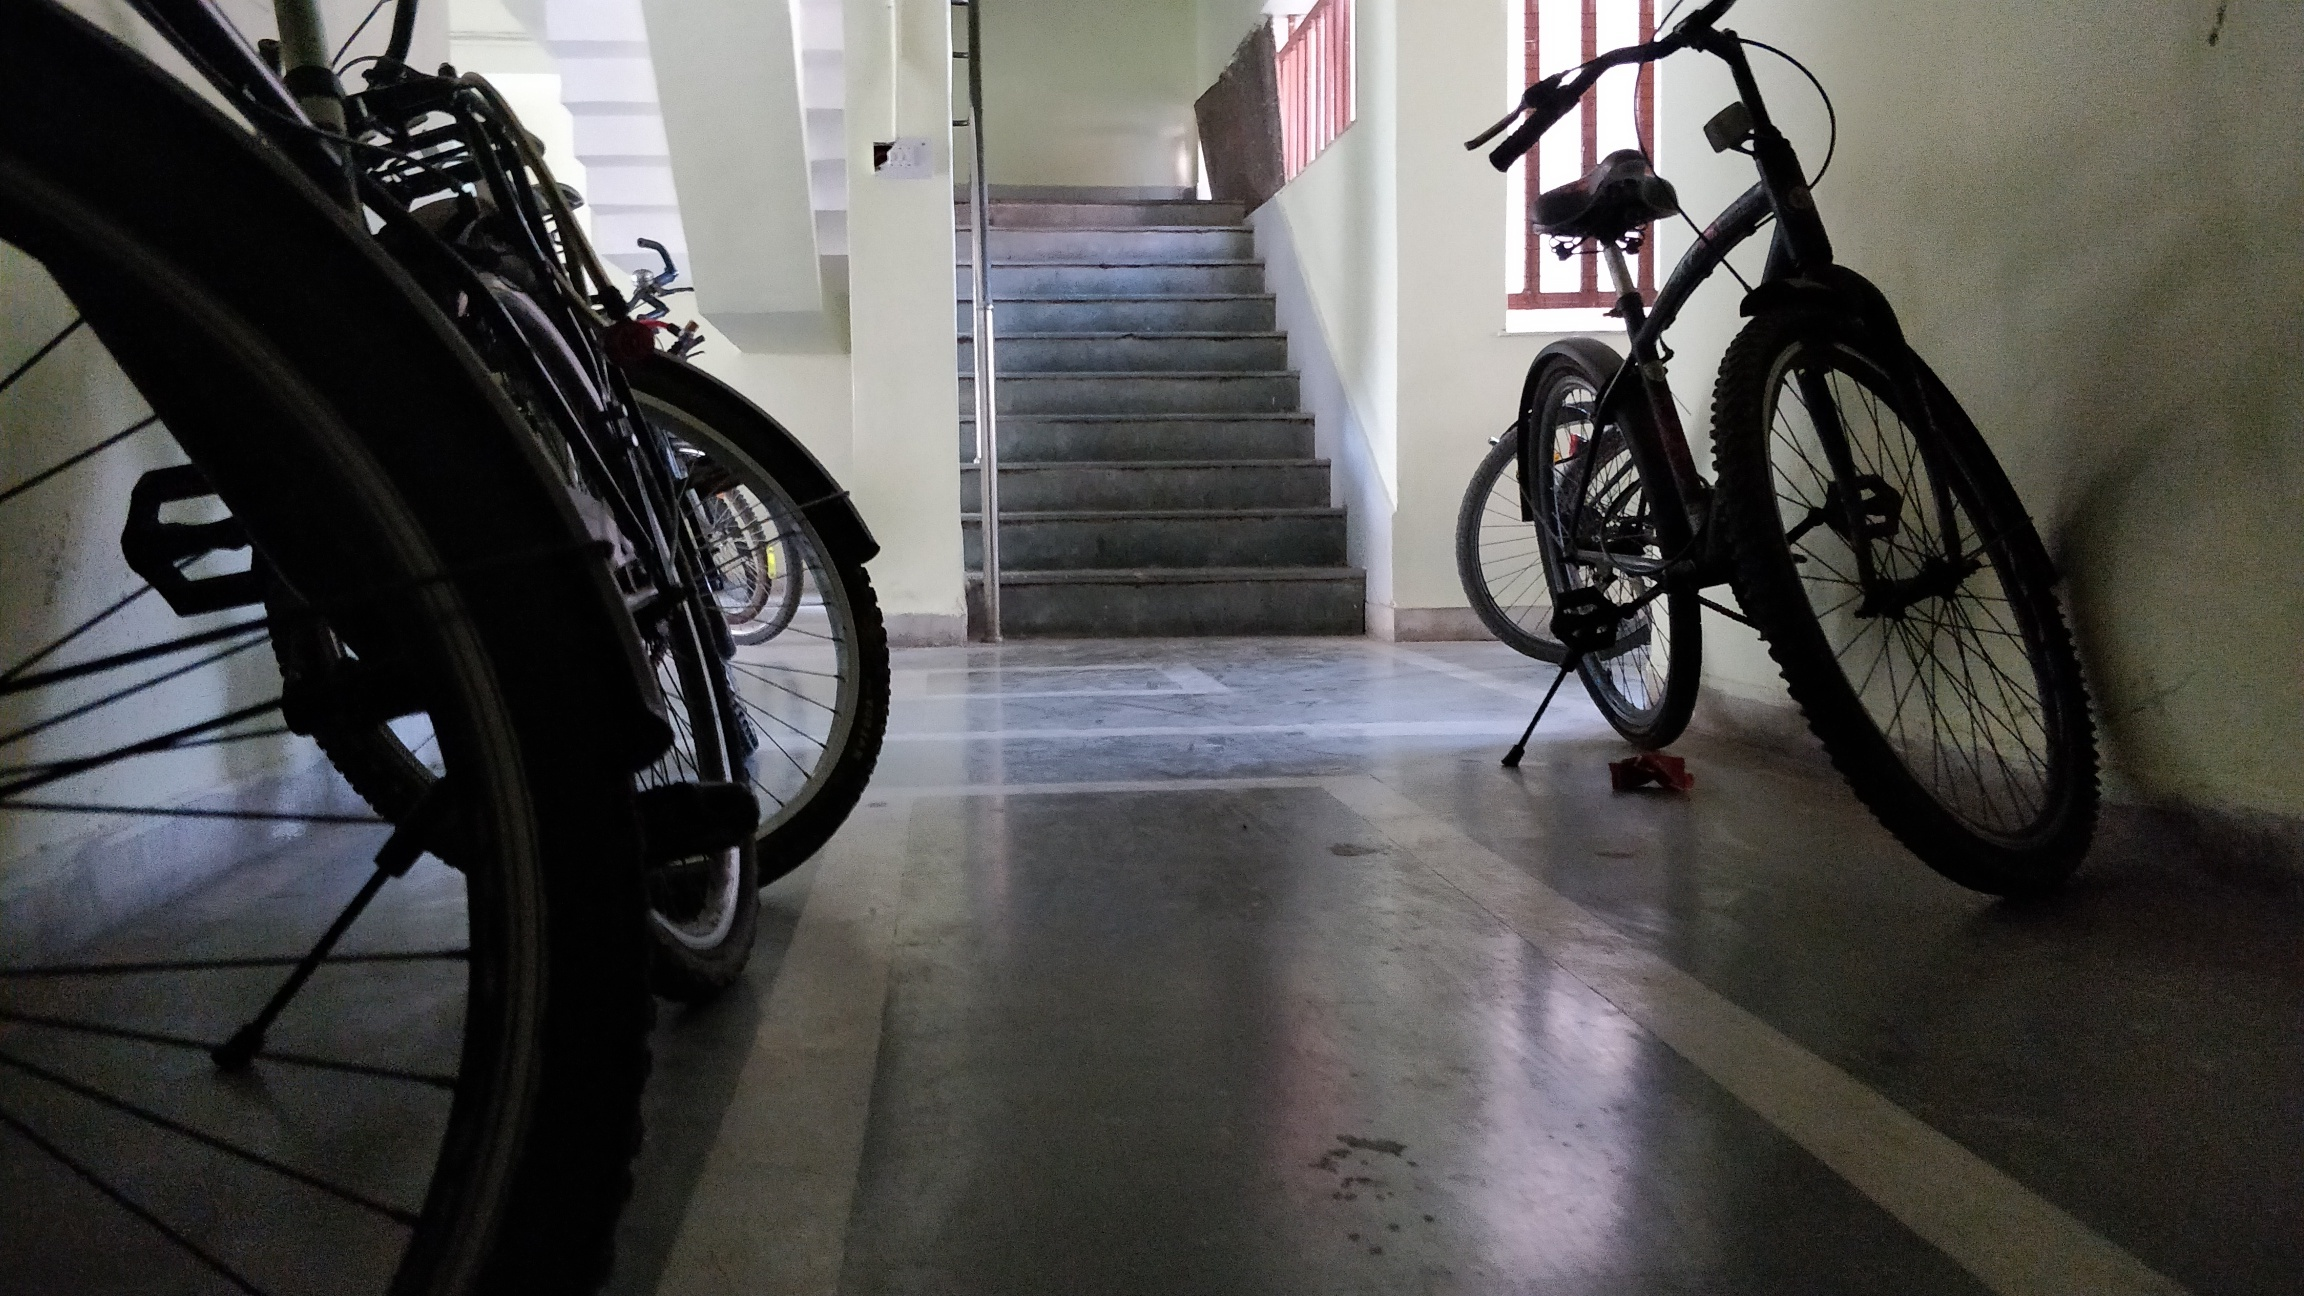stairs_up: (957, 201, 1366, 622)
